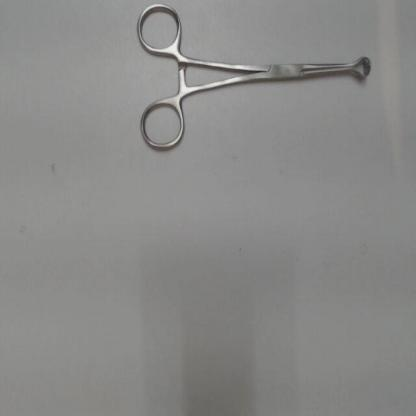Babcock Tissue Forceps: (137, 1, 375, 157)
